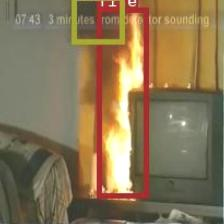fire: (96, 7, 148, 197)
smoke: (71, 0, 122, 43)
